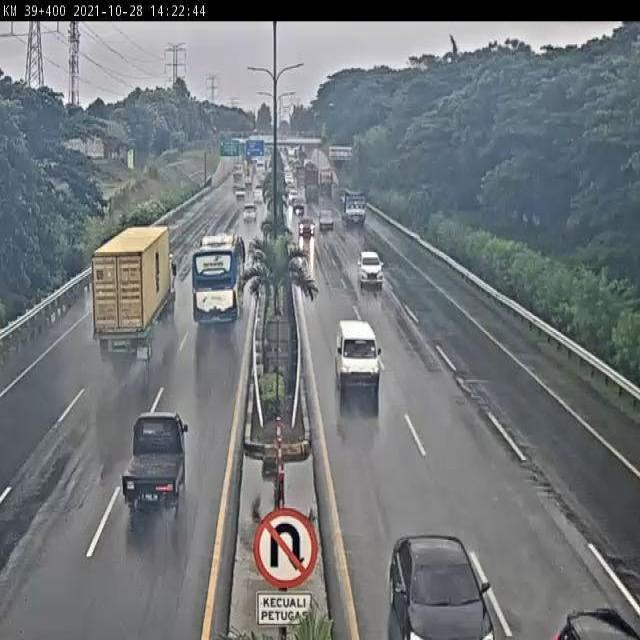bus-l-: (193, 231, 250, 324)
car: (121, 414, 189, 514)
truck-xl-: (92, 227, 179, 357)
